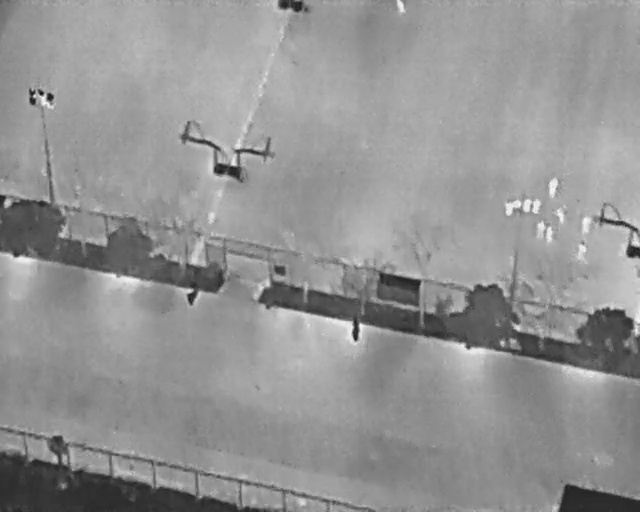Bicycle: (182, 282, 201, 307), (349, 315, 361, 344)
Person: (545, 174, 560, 199), (579, 212, 592, 237), (533, 218, 546, 241), (530, 195, 544, 216), (554, 206, 567, 227), (577, 243, 588, 266), (520, 197, 533, 215), (545, 223, 554, 245), (394, 0, 406, 13), (511, 199, 522, 211), (504, 202, 513, 216)
